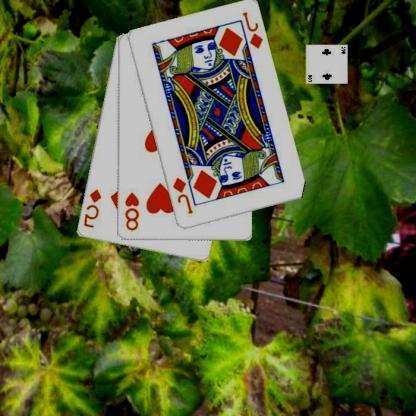5D: (82, 186, 104, 230)
8H: (123, 190, 142, 232)
JD: (171, 174, 196, 216), (241, 9, 266, 50)
